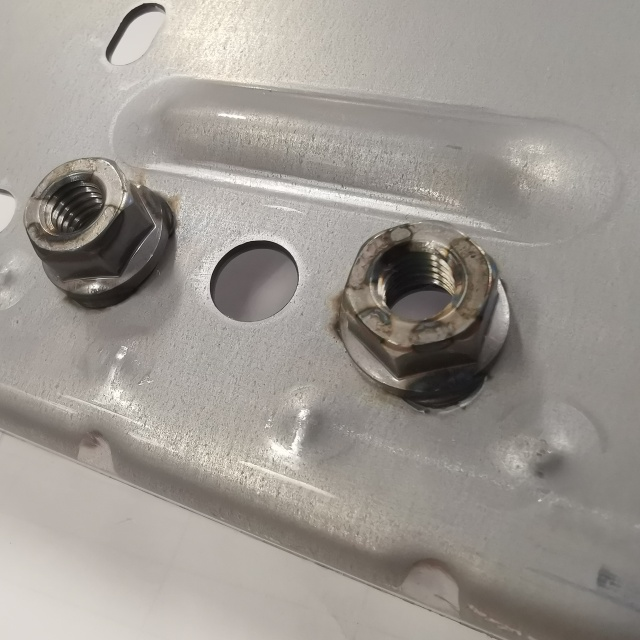dog: (331, 215, 516, 408), (19, 152, 175, 313)
